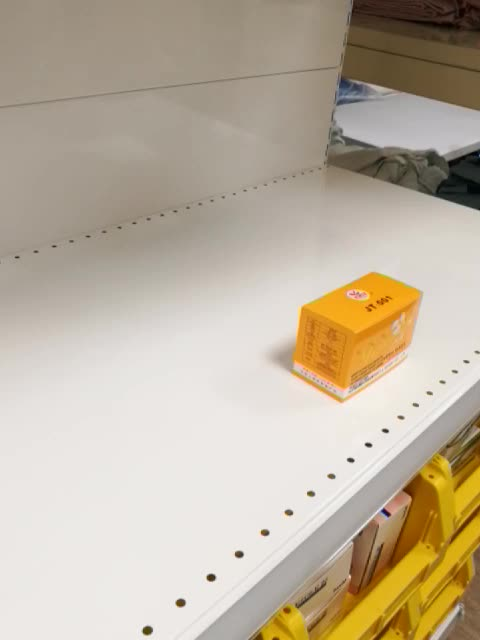jasminetea: (289, 270, 424, 405)
